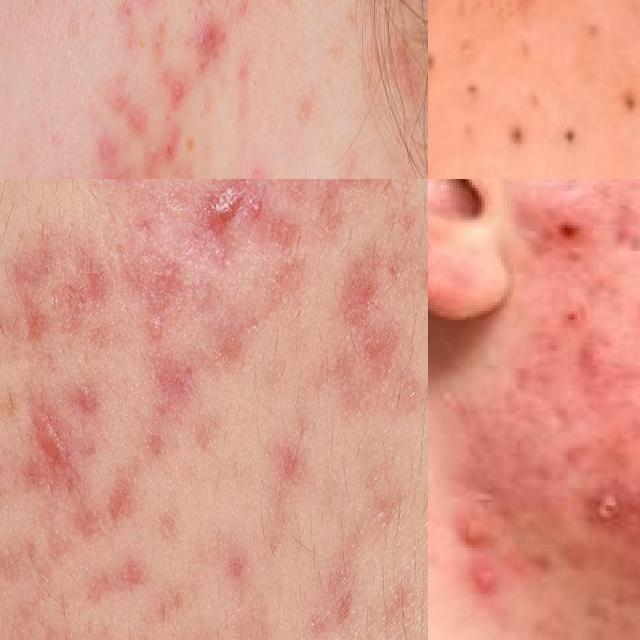comedone: (428, 28, 549, 177), (544, 90, 598, 173), (603, 69, 640, 130)
crystanlline: (196, 20, 227, 74), (93, 164, 142, 179)
cystic: (446, 506, 496, 556), (466, 557, 508, 603)
keloid: (15, 384, 74, 499), (184, 179, 279, 250)
papule: (130, 92, 147, 132)
